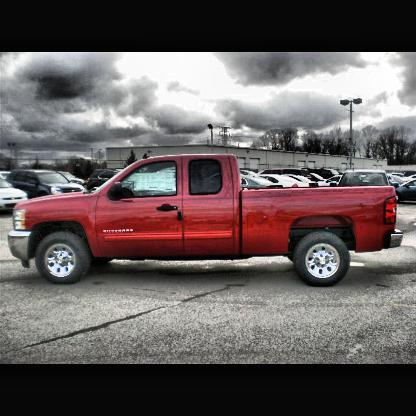Chevrolet Silverado 1500 Extended Cab 2012: (9, 151, 400, 288)
